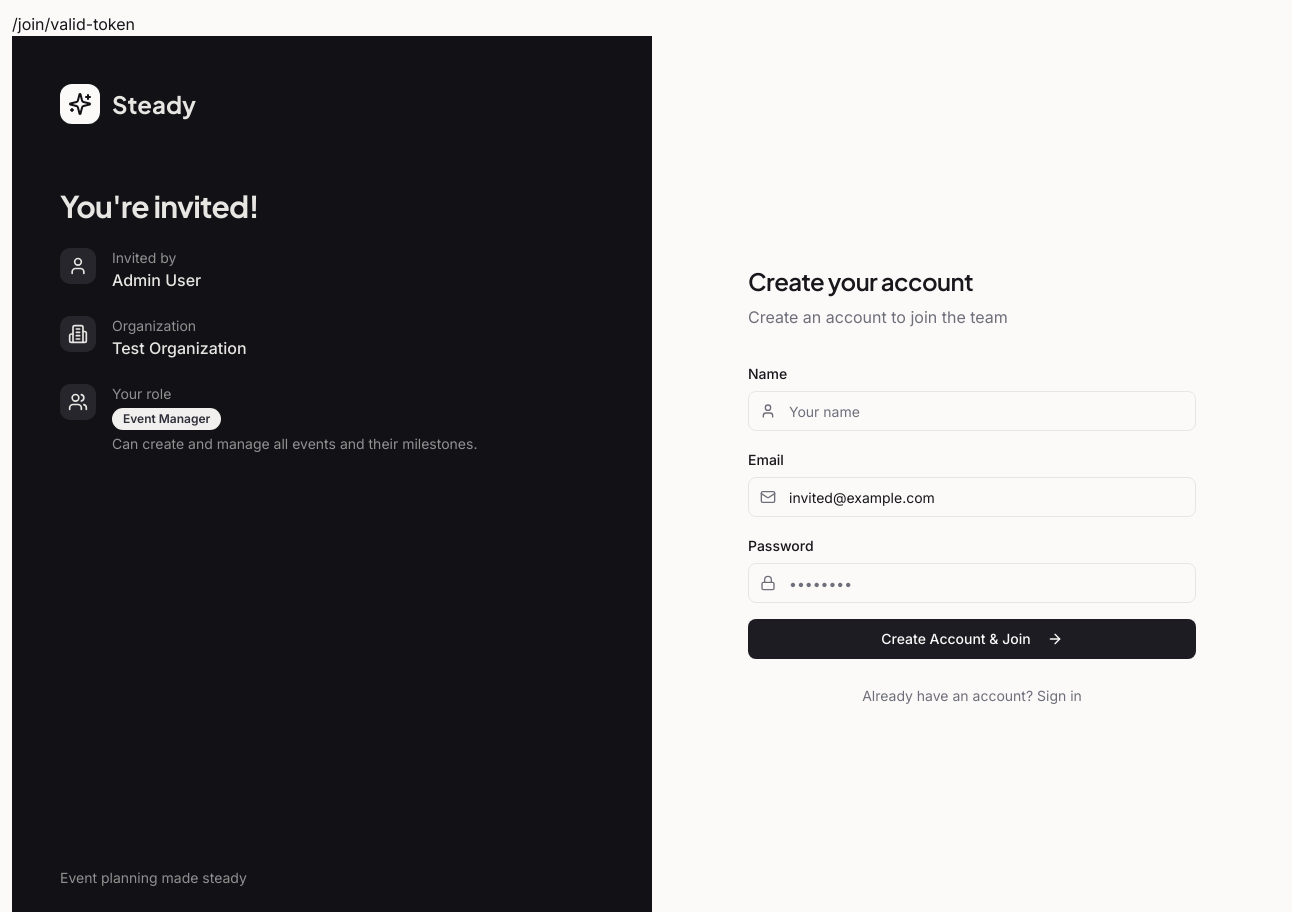
Invitation Flow › New User Sign Up Flow › allows toggling to sign in form
This screenshot has width=1292, height=912.
Click the button "Already have an account? Sign in" at (972, 696), box top-left (862, 686), bottom-right (1082, 706)
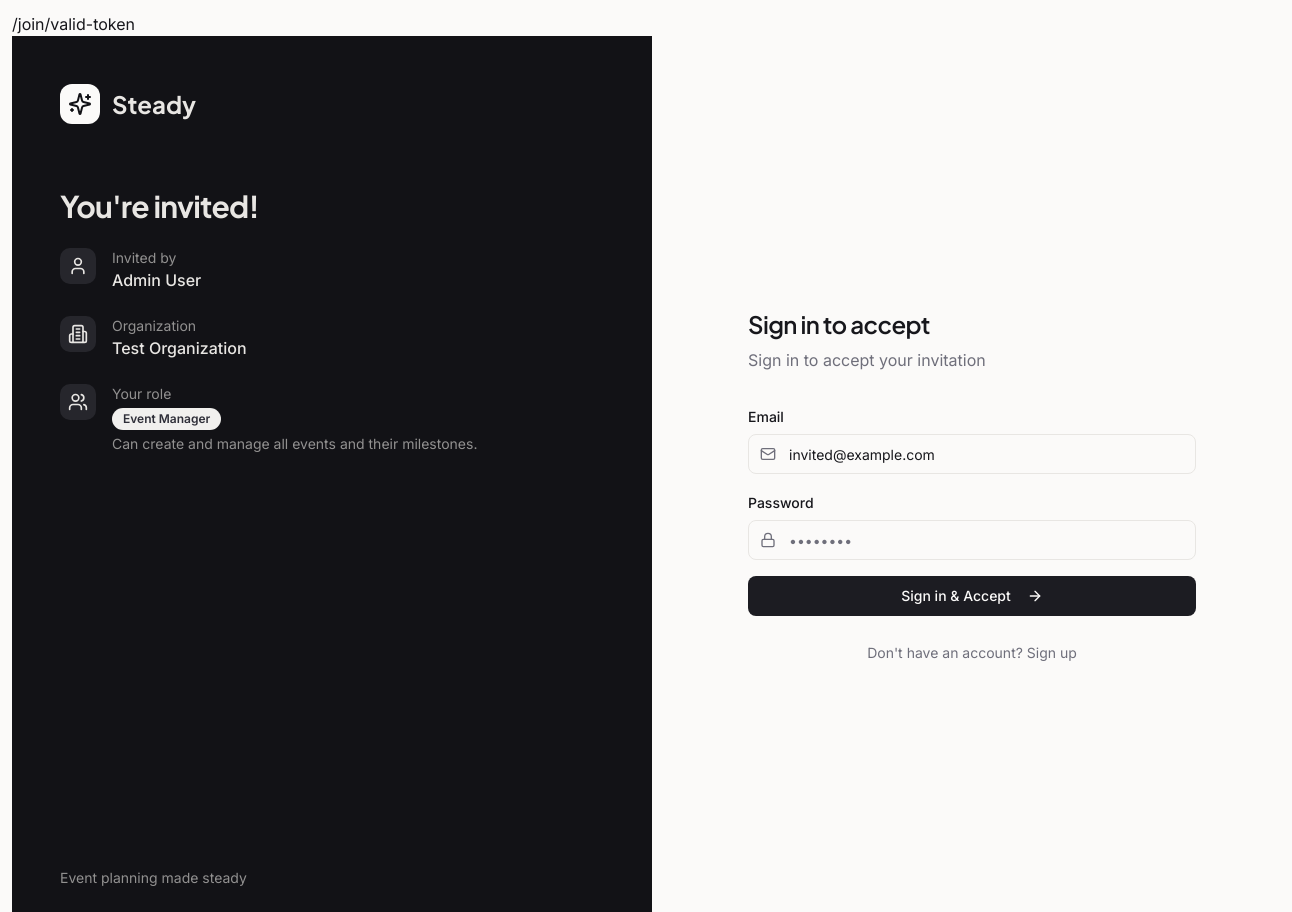
Expected: the label labelled "Name" is gone
Expected: the button "Sign in & Accept" is shown, top-left (748, 576), bottom-right (1196, 616)
